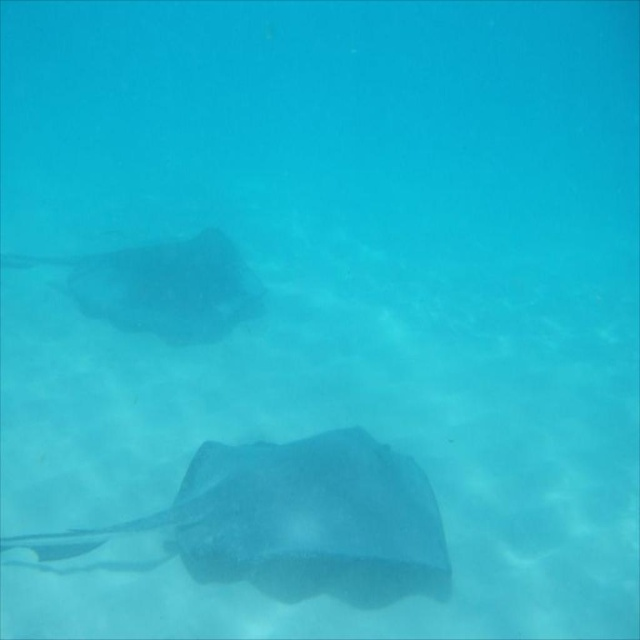Fish: (0, 426, 451, 613)
